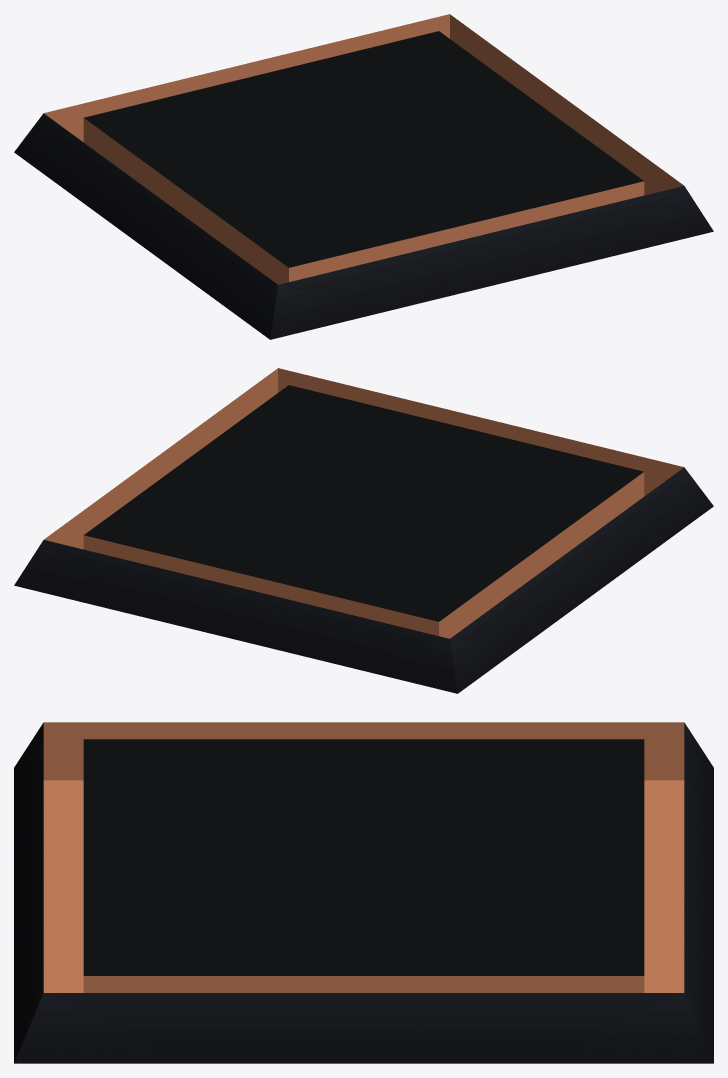
File: devicePlate.fbx
The picture shows the model from 3 angles, top to bottom: view 1: azimuth 30°, elevation 25°; view 2: azimuth 150°, elevation 25°; view 3: azimuth 270°, elevation 25°; orthographic projection. The views are drawn at different scales.
Visible parts, largest first — view 1: Cube; view 2: Cube; view 3: Cube.
Boxes of the visible parts, box(x1,y1,x2,y2) form: Cube: box(14, 14, 713, 339); Cube: box(14, 368, 713, 693); Cube: box(14, 722, 713, 1063).
Size of the model in its own units: 218 by 20 by 218.
